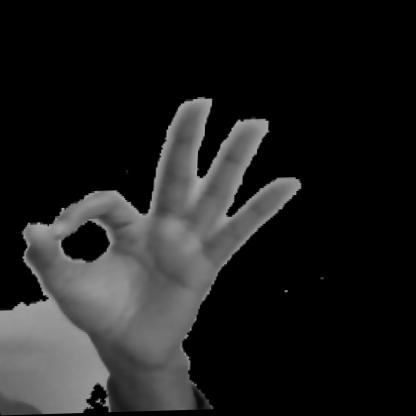ok: (18, 84, 317, 358)
